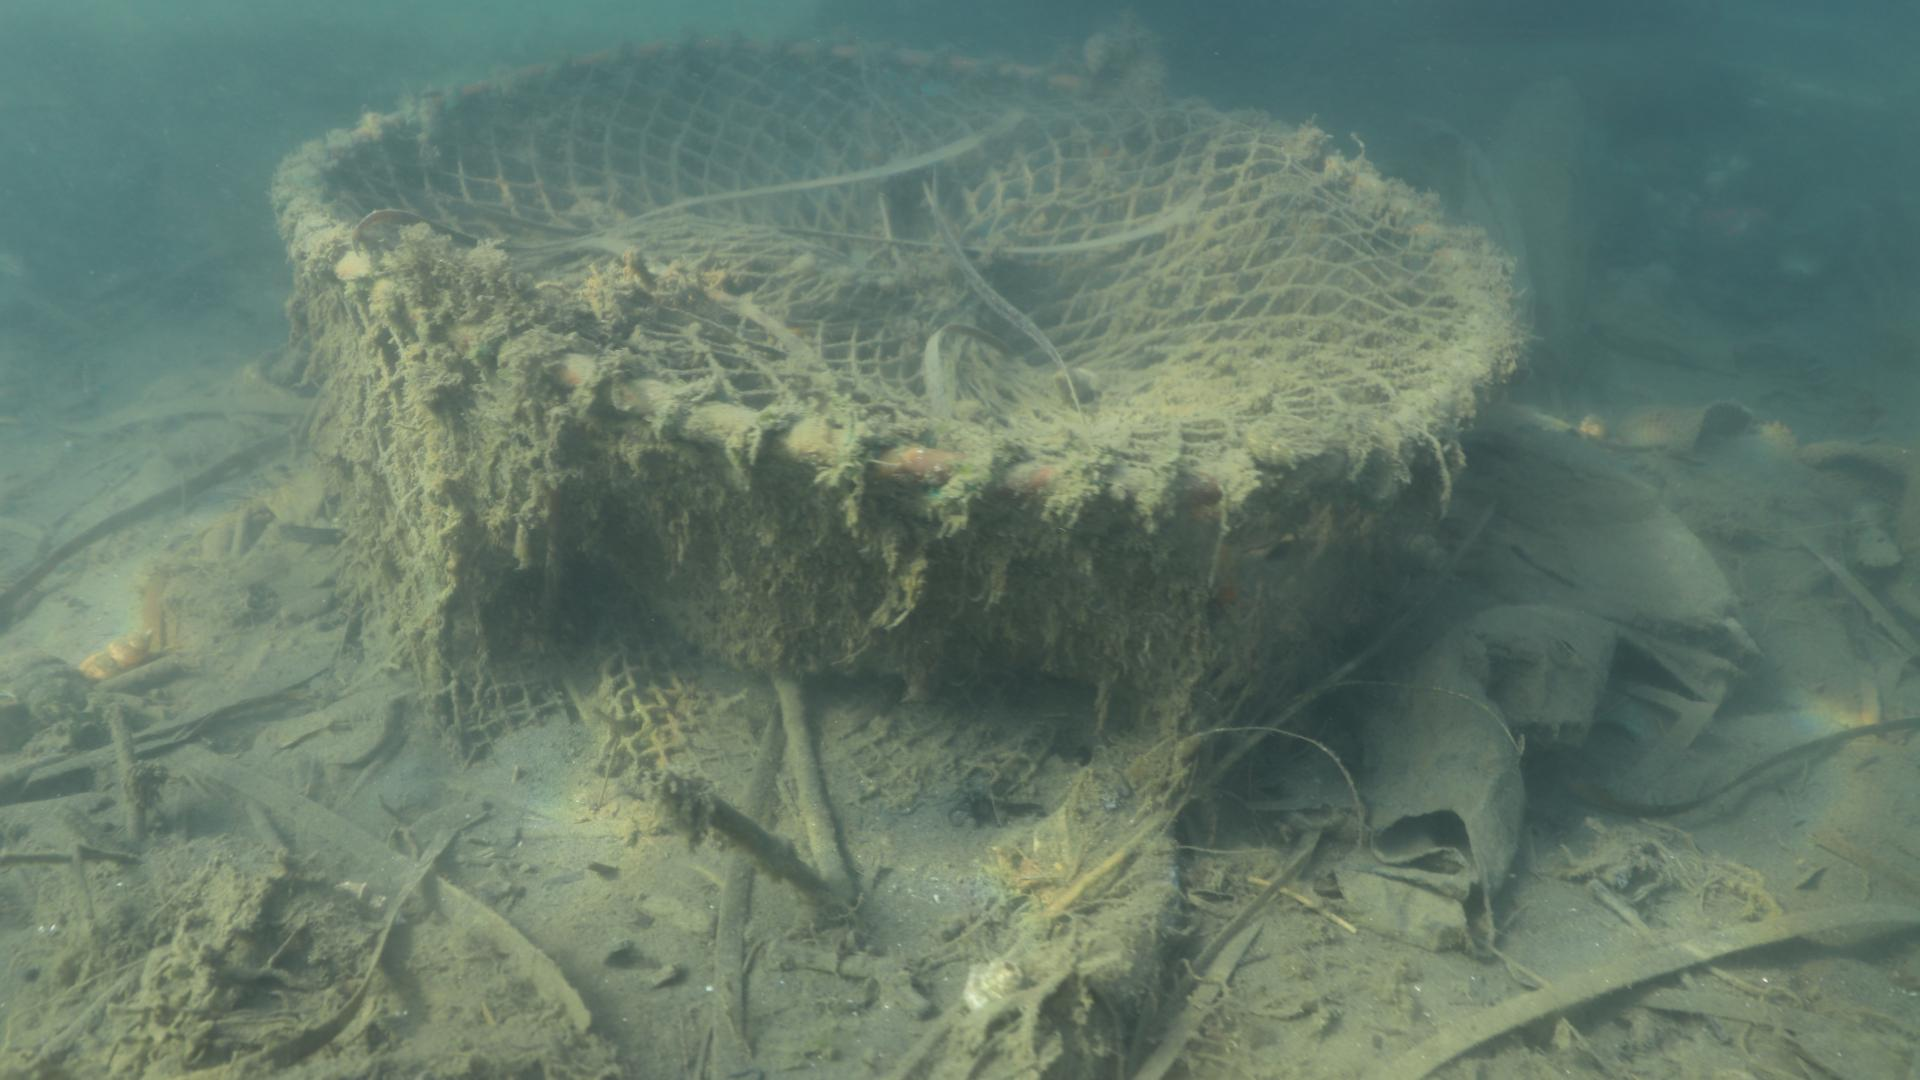circular fish trap: (266, 36, 1523, 748)
